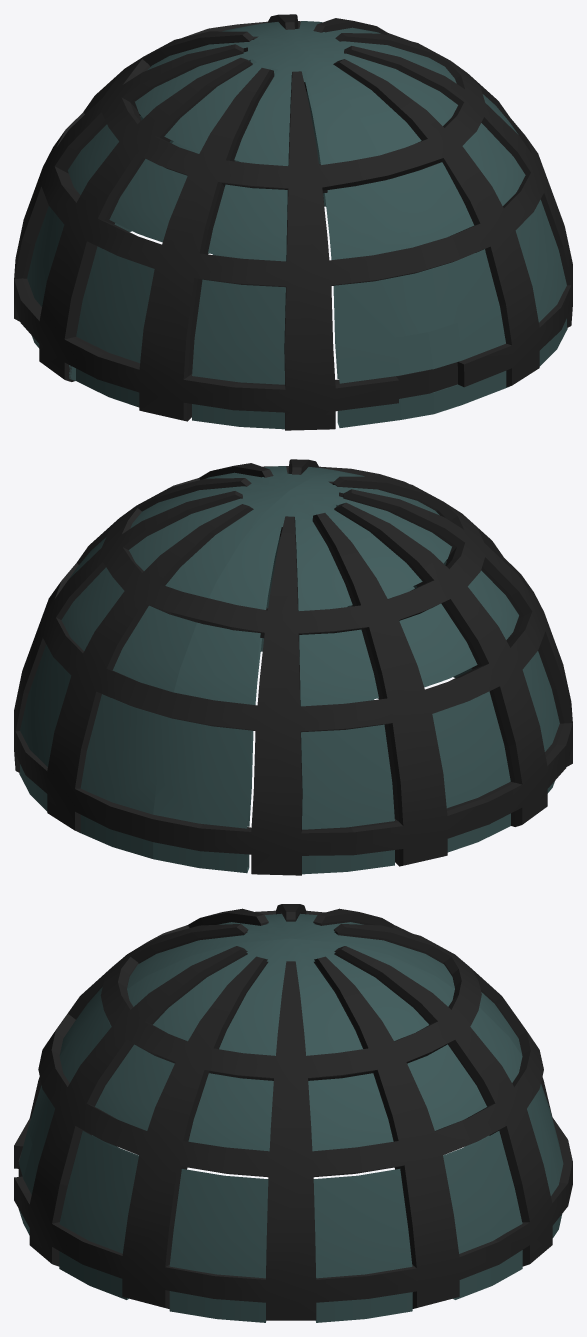
Rendered from Biodomes_NoDoors.fbx.
3 views of the same model, one above another, from view 1: azimuth 30°, elevation 25°; view 2: azimuth 150°, elevation 25°; view 3: azimuth 270°, elevation 25° (orthographic).
Visible parts, largest first — view 1: Biodome_Framing_ND, Biodome_Windows_ND; view 2: Biodome_Framing_ND, Biodome_Windows_ND; view 3: Biodome_Framing_ND, Biodome_Windows_ND.
Part boxes in pixels (x1,y1,x2,y2): Biodome_Framing_ND: [14, 14, 572, 430]; Biodome_Windows_ND: [27, 21, 567, 429]; Biodome_Framing_ND: [14, 459, 572, 875]; Biodome_Windows_ND: [19, 466, 559, 874]; Biodome_Framing_ND: [14, 904, 572, 1320]; Biodome_Windows_ND: [18, 913, 563, 1322].
Size of the model in its own units: 3640 by 1937 by 3639.
